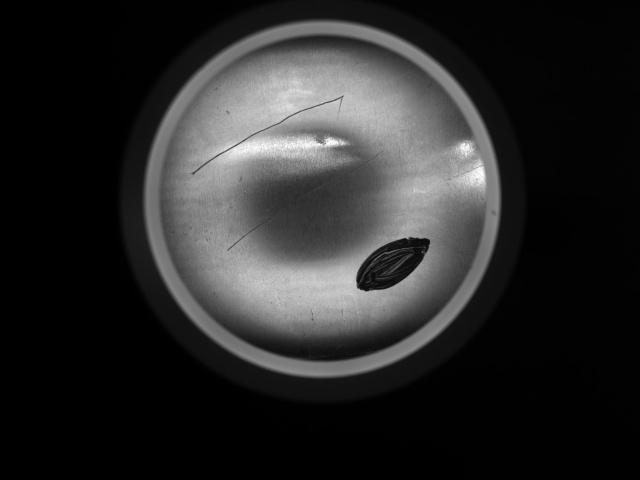ca_shang: (224, 142, 394, 254), (188, 91, 347, 177)
zang_wu: (353, 236, 432, 292)
